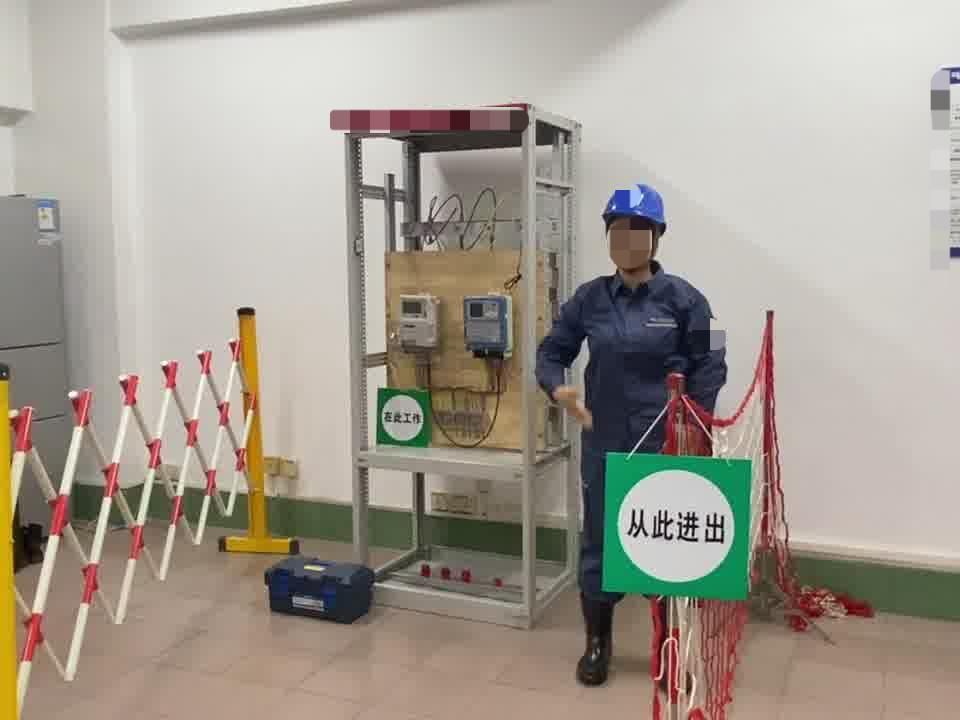halt: (602, 181, 672, 279)
